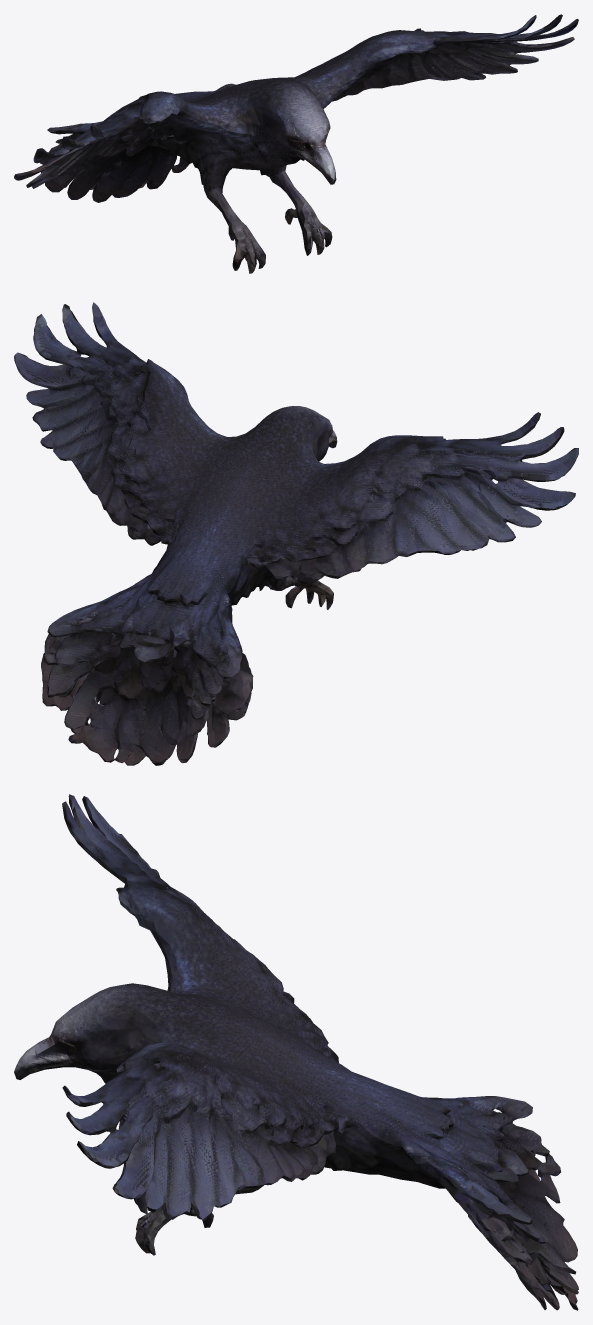
The model's file is carrion_crow.glb.
3 views of the same model, one above another, from view 1: azimuth 30°, elevation 25°; view 2: azimuth 150°, elevation 25°; view 3: azimuth 270°, elevation 25° (orthographic). The views are drawn at different scales.
Parts seen in each view (by area): view 1: temp_mesh.ply; view 2: temp_mesh.ply; view 3: temp_mesh.ply.
Part boxes in pixels (left/top/right/bottom): temp_mesh.ply: left=14, top=14, right=578, bottom=273; temp_mesh.ply: left=14, top=302, right=578, bottom=765; temp_mesh.ply: left=14, top=794, right=578, bottom=1310.
Size of the model in its own units: 1.97 by 0.9014 by 1.31.
1 material, 1 textured.
